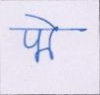e_matra: (24, 14, 60, 28)
